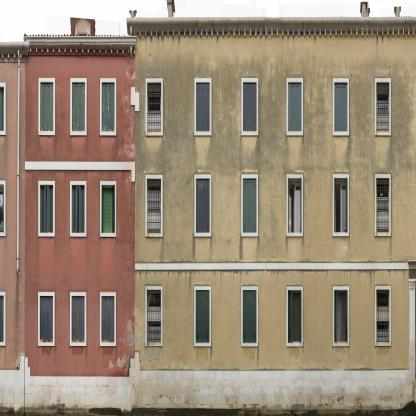Building Outline: (24, 0, 416, 416)
Facade: (24, 0, 416, 415)
Floor: (25, 168, 416, 268)
Floor Slab: (25, 267, 416, 275), (25, 160, 416, 167)
Ground Floor: (25, 275, 416, 415)
Molding: (131, 27, 416, 37), (26, 44, 136, 56)
Top Floor: (25, 36, 416, 160)
Window: (147, 290, 161, 344), (147, 179, 161, 233), (196, 290, 210, 344), (196, 179, 210, 233), (243, 290, 257, 344), (243, 179, 257, 233), (288, 290, 302, 344), (288, 179, 302, 233), (334, 290, 348, 344), (335, 179, 349, 233), (376, 290, 390, 343), (376, 179, 390, 232), (376, 82, 390, 131), (147, 83, 161, 132), (196, 83, 210, 132), (243, 83, 257, 132), (288, 83, 302, 132), (335, 83, 349, 132), (40, 83, 53, 132), (102, 83, 115, 132), (72, 83, 85, 132), (40, 185, 53, 233), (72, 185, 85, 233), (102, 185, 115, 233), (102, 297, 115, 343), (40, 297, 53, 343), (72, 297, 85, 343)
